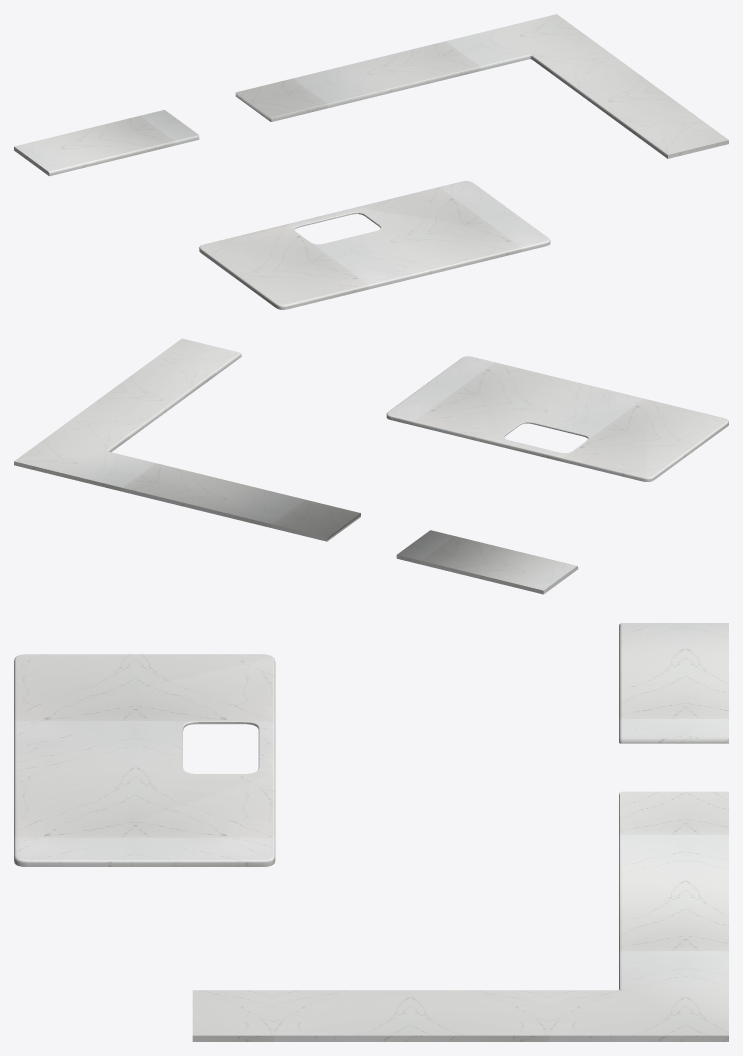
The model's file is 1989_kitchen_Countertops_QuartzCalacattaUltra.gltf.
3 views of the same model, one above another, from view 1: azimuth 30°, elevation 25°; view 2: azimuth 150°, elevation 25°; view 3: azimuth 270°, elevation 25° (orthographic). The views are drawn at different scales.
Visible parts, largest first — view 1: Countertop_quartz_calacatta_ultra.001; view 2: Countertop_quartz_calacatta_ultra.001; view 3: Countertop_quartz_calacatta_ultra.001.
Boxes of the visible parts, bbox=[...] form: Countertop_quartz_calacatta_ultra.001: bbox=[14, 14, 728, 309]; Countertop_quartz_calacatta_ultra.001: bbox=[14, 338, 728, 594]; Countertop_quartz_calacatta_ultra.001: bbox=[14, 623, 728, 1041].
Size of the model in its own units: 7.1 by 0.07 by 5.2.
1 material, 1 textured.
